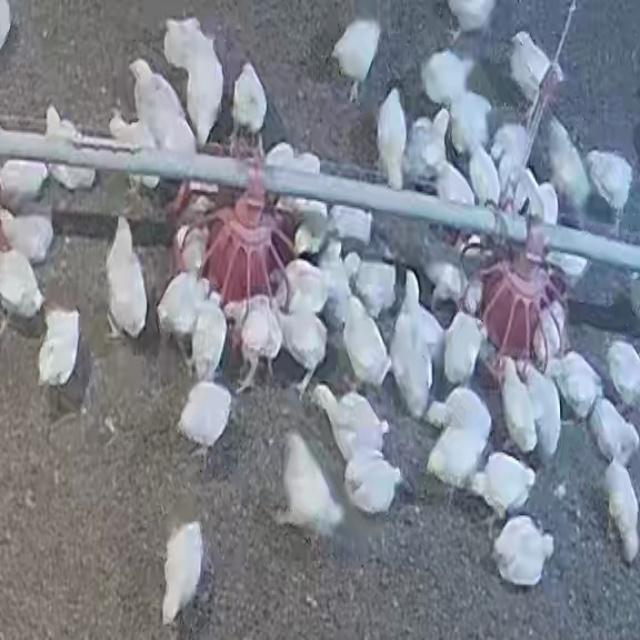chicken: (160, 20, 224, 146), (127, 60, 198, 170), (276, 433, 348, 539), (391, 275, 443, 418), (424, 385, 494, 491), (312, 383, 390, 472), (340, 289, 392, 398), (543, 120, 594, 220), (278, 304, 332, 394), (157, 522, 203, 627), (490, 515, 556, 587), (105, 110, 160, 196), (235, 297, 284, 392), (43, 108, 97, 192), (110, 215, 146, 339), (496, 357, 540, 458), (342, 450, 405, 520), (600, 457, 640, 566), (475, 451, 538, 519), (441, 304, 487, 394), (155, 268, 209, 344), (507, 31, 558, 108), (189, 295, 230, 389), (585, 150, 633, 228), (550, 349, 602, 420), (523, 363, 561, 459), (588, 397, 640, 467), (0, 246, 46, 324), (446, 90, 494, 164), (420, 48, 474, 113), (376, 87, 410, 190), (179, 383, 232, 448), (333, 20, 376, 99), (280, 257, 331, 323), (41, 303, 79, 391), (265, 142, 315, 208), (178, 194, 215, 276), (0, 210, 53, 266), (285, 197, 332, 260), (422, 250, 466, 314), (352, 257, 397, 318), (404, 111, 443, 181), (0, 159, 50, 211), (604, 338, 640, 409), (232, 62, 267, 132), (465, 142, 501, 209), (490, 120, 530, 180), (531, 299, 565, 366), (432, 159, 474, 211), (443, 1, 498, 39), (327, 204, 371, 249)
